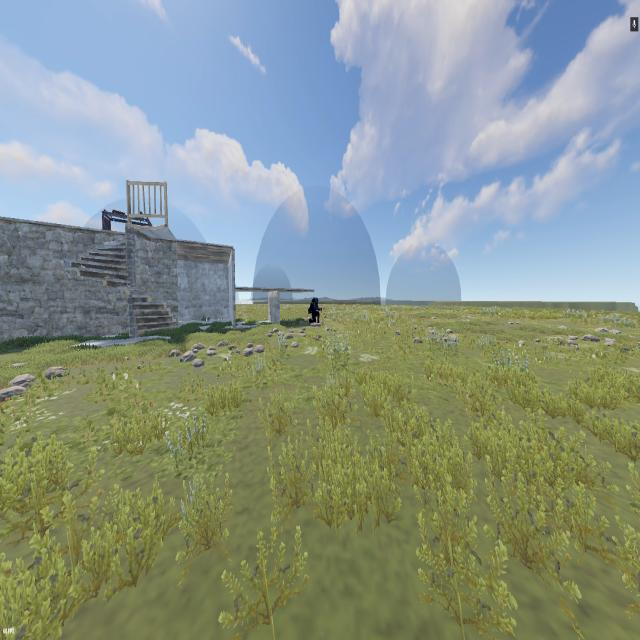Player: (307, 294, 321, 325)
